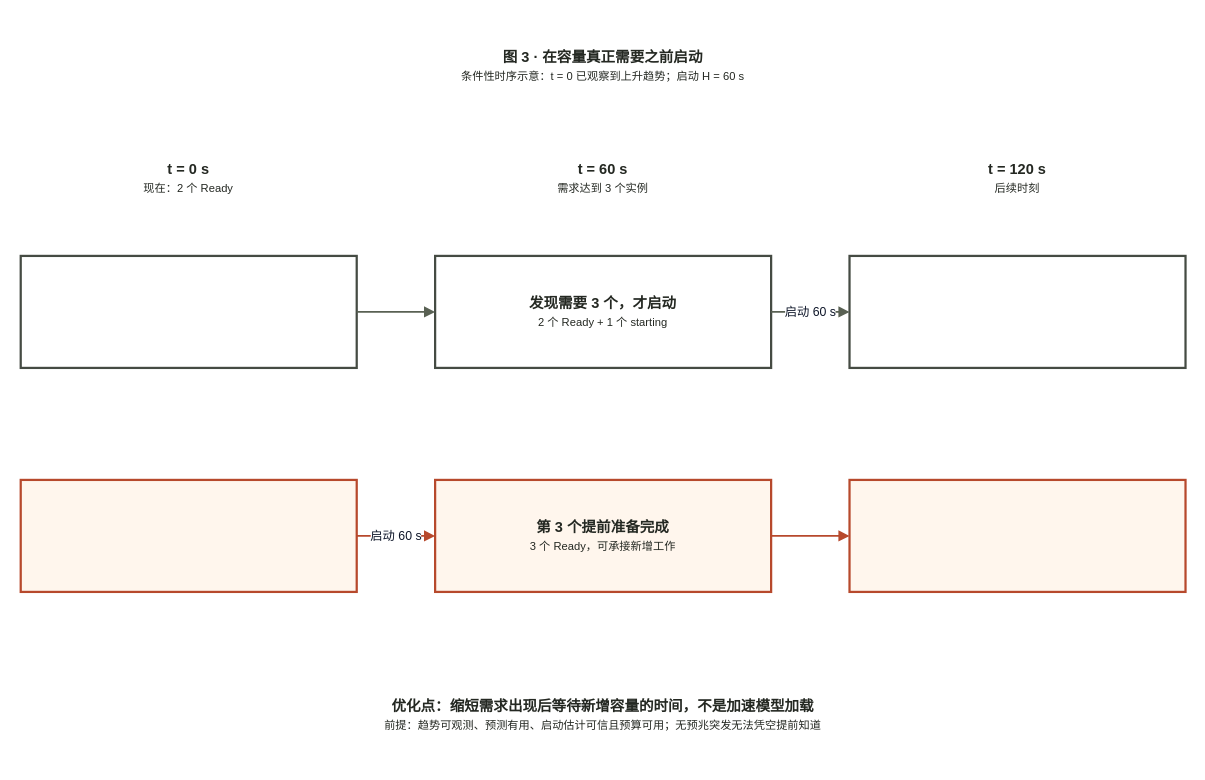
Some shapes in this 1205 by 780 pixel diagram are drawn without their labels. The shapes that lost their labels are listed below. From the top down, each one's box as (x1, y1, x2, y2) in pixels, then its label:
(19, 254, 357, 368): 仅工作量反应式 当前压力只需要 2 个：等待
(848, 254, 1186, 368): 第 3 个才 Ready 中间存在容量不足风险
(19, 478, 357, 592): 工作量 + 启动前瞻 预测 60 s 后需 3 个：现在启动
(848, 478, 1186, 592): 继续核真实承接与时延 预测过冲则承担额外预约成本
